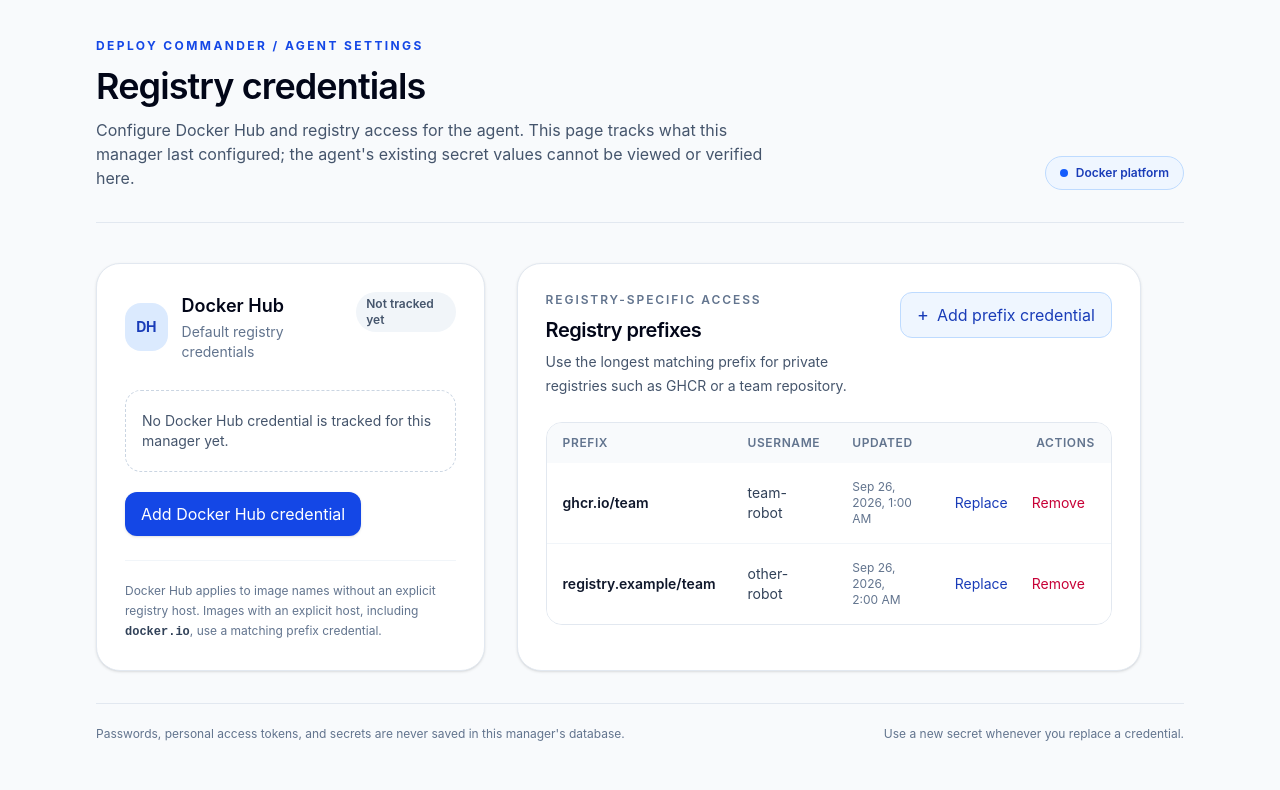
Test: credential manager › loads the selected prefix when switching between replacement forms
Click the button with aria-label "replace ghcr.io/team" at {"x": 981, "y": 503}, box left=945, top=485, right=1018, bottom=521
(page scrolled)
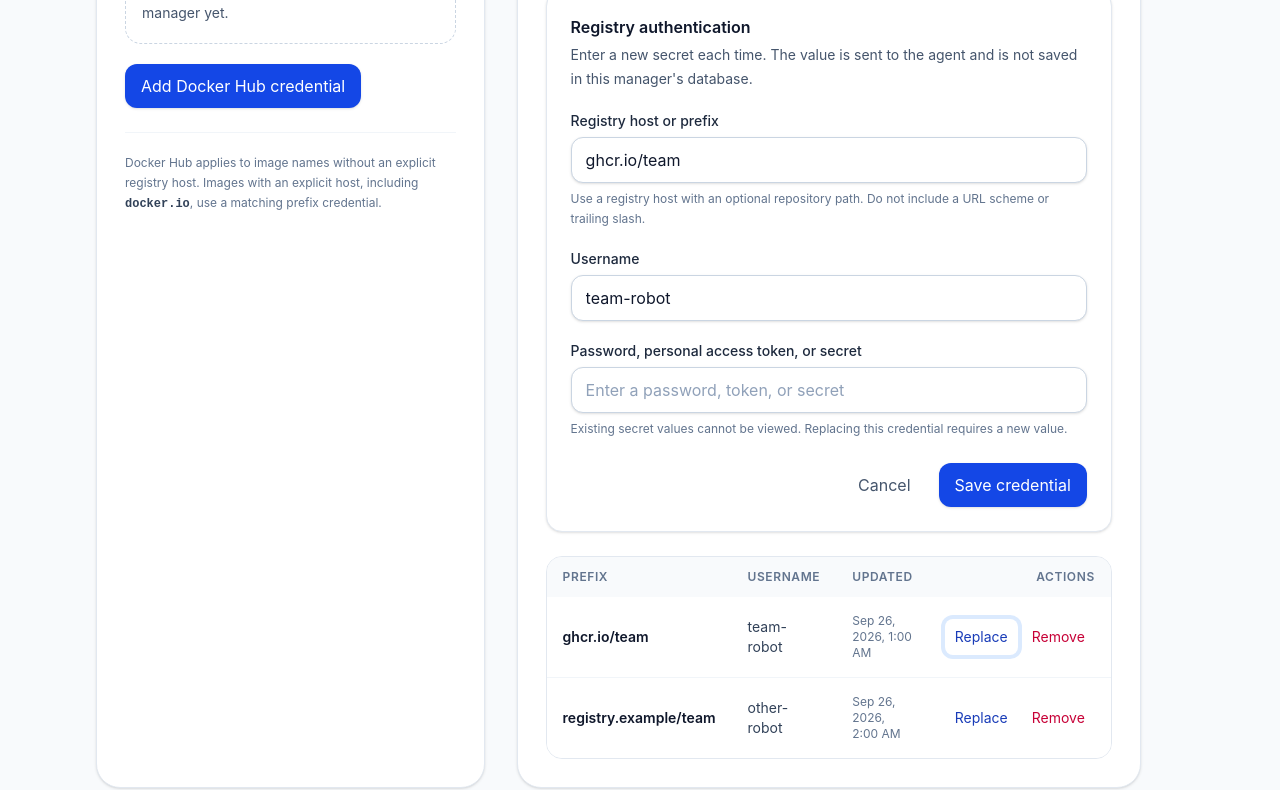
Expected: the field labelled "Registry host or prefix" holds "ghcr.io/team", left=571, top=137, right=1087, bottom=183
Type "first-secret" into the password field labelled "Password, personal access token, or secret" at {"x": 829, "y": 390}, box left=571, top=367, right=1087, bottom=413
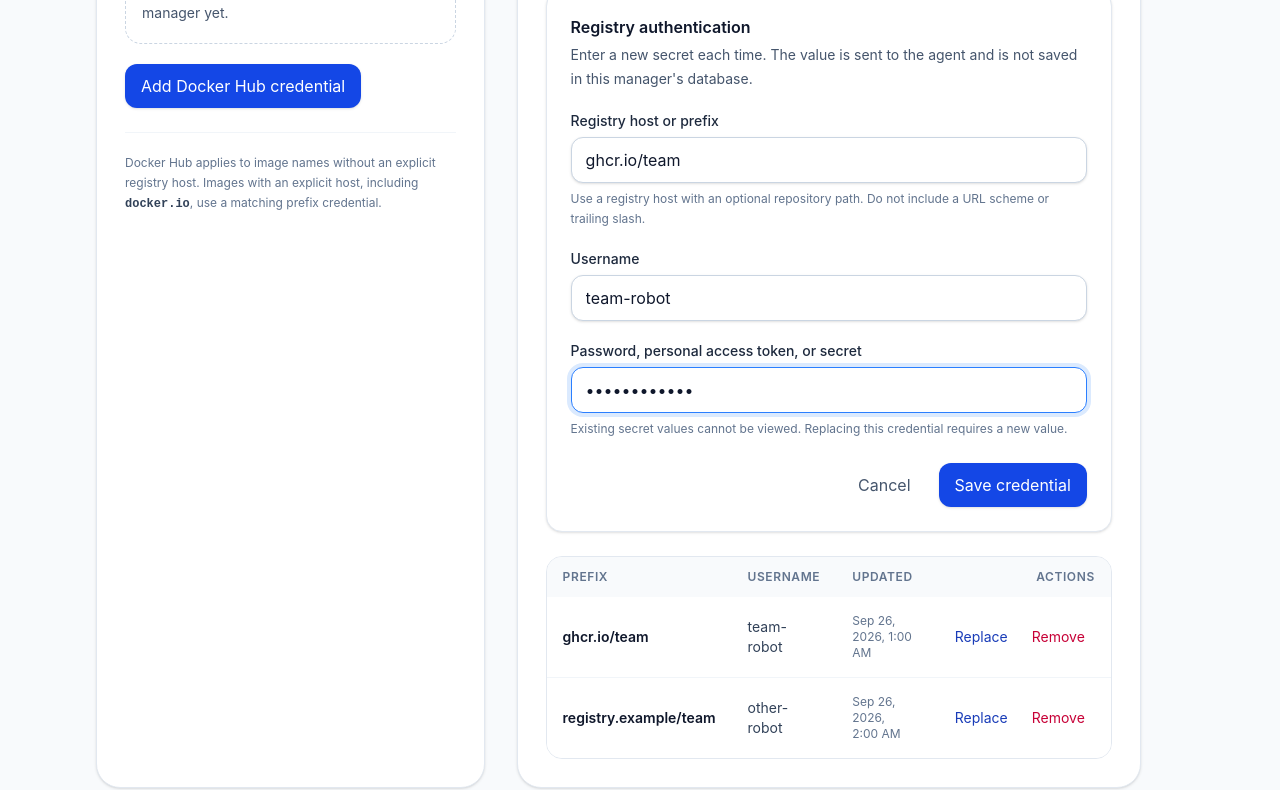
Click the button with aria-label "replace registry.example/team" at {"x": 981, "y": 718}, box left=945, top=700, right=1018, bottom=736
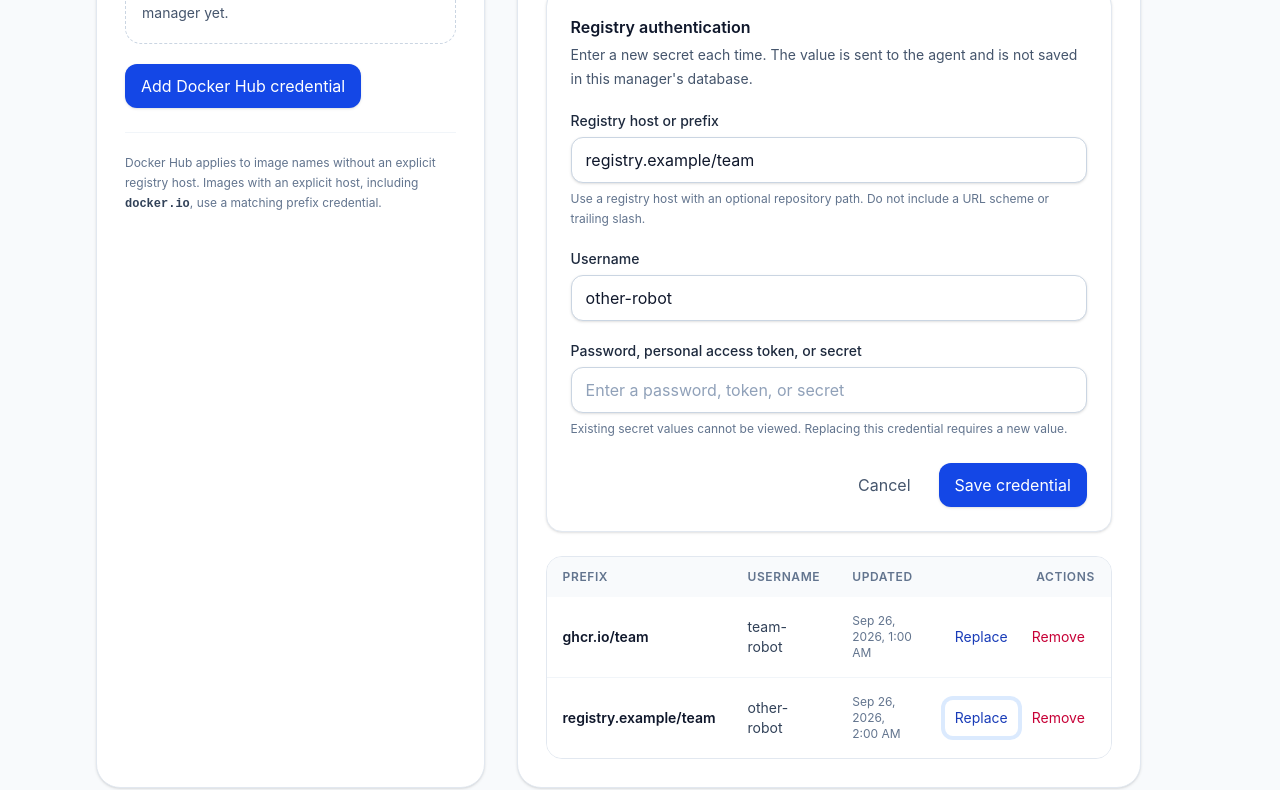
Expected: the field labelled "Registry host or prefix" holds "registry.example/team", left=571, top=137, right=1087, bottom=183
Expected: the field labelled "Username" holds "other-robot", left=571, top=275, right=1087, bottom=321
Expected: the password field labelled "Password, personal access token, or secret" is empty, left=571, top=367, right=1087, bottom=413
